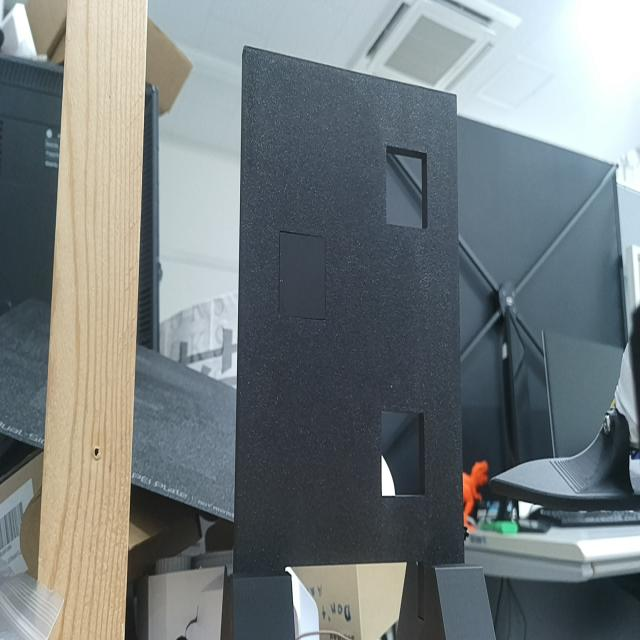Obstacle: (381, 409, 427, 494), (386, 144, 428, 225)
Wall: (238, 47, 464, 564)
